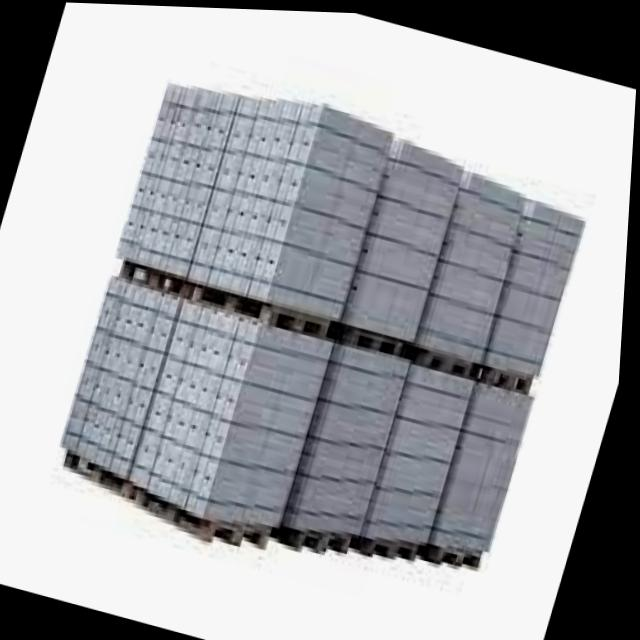bricks: (63, 83, 582, 557)
